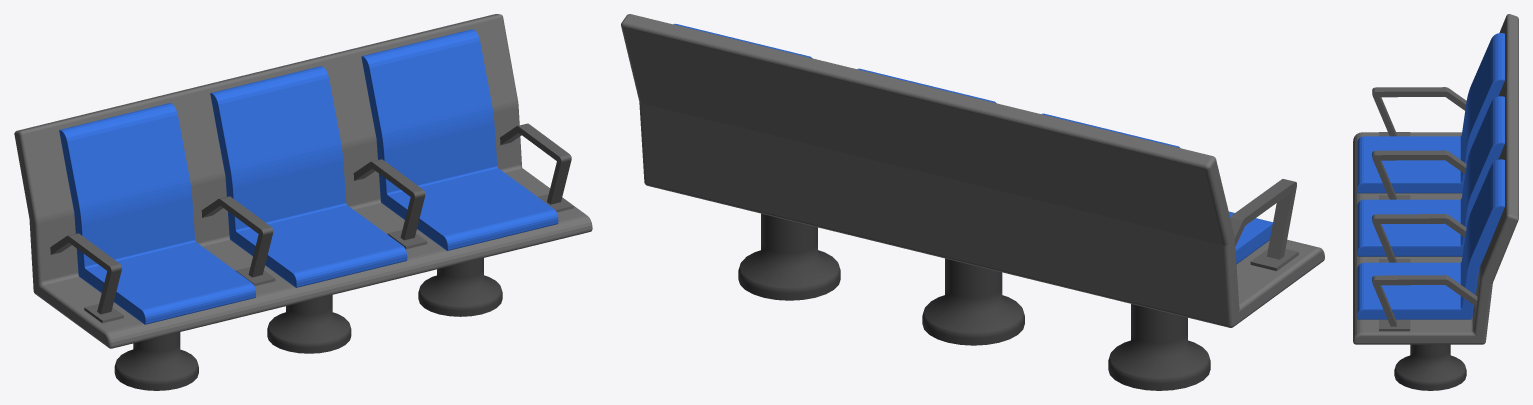
The model's file is bench.fbx.
3 views of the same model, side by side, from view 1: azimuth 30°, elevation 25°; view 2: azimuth 150°, elevation 25°; view 3: azimuth 270°, elevation 25° (orthographic). The views are drawn at different scales.
Visible parts, largest first — view 1: cushions, sitting piece, armrest and legs; view 2: sitting piece, armrest and legs, cushions; view 3: cushions, sitting piece, armrest and legs.
Part boxes in pixels (box(x1,y1,x2,y2)): cushions: box(59, 29, 558, 324); sitting piece: box(14, 14, 592, 348); armrest and legs: box(50, 123, 573, 390); sitting piece: box(621, 14, 1324, 327); armrest and legs: box(738, 179, 1298, 390); cushions: box(673, 23, 1272, 264); cushions: box(1357, 33, 1504, 319); sitting piece: box(1353, 14, 1518, 344); armrest and legs: box(1372, 87, 1477, 390).
Bounding box in the file's own units: 402 × 183 × 139.
